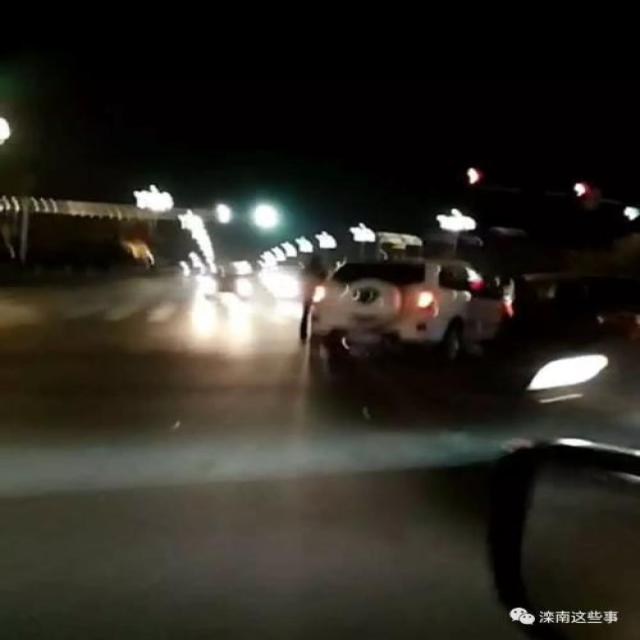other: (121, 174, 306, 312)
